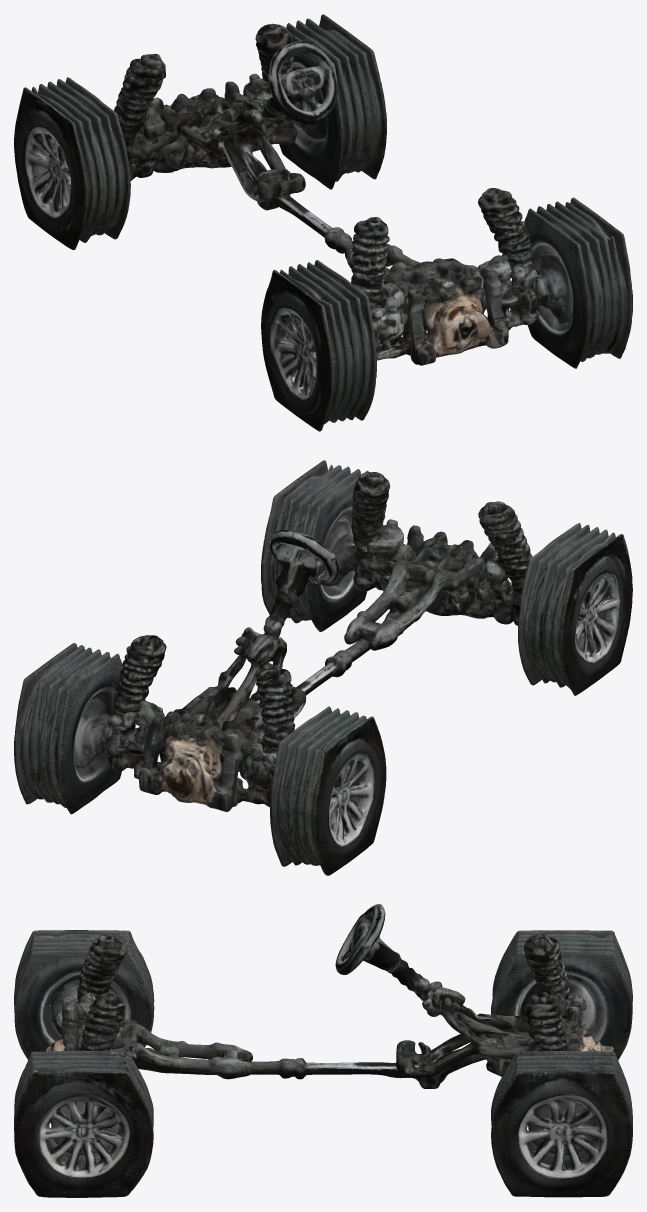
Rendered from podvozek1.glb.
The picture shows the model from 3 angles, top to bottom: view 1: azimuth 30°, elevation 25°; view 2: azimuth 150°, elevation 25°; view 3: azimuth 270°, elevation 25°; orthographic projection. The views are drawn at different scales.
Visible parts, largest first — view 1: world; view 2: world; view 3: world.
Boxes of the visible parts, <box> form: world: <box>14,14,632,431</box>; world: <box>14,460,632,875</box>; world: <box>14,904,632,1197</box>.
Bounding box in the file's own units: 0.5546 × 0.3896 × 1.
Materials: 1 (1 with a texture image).
